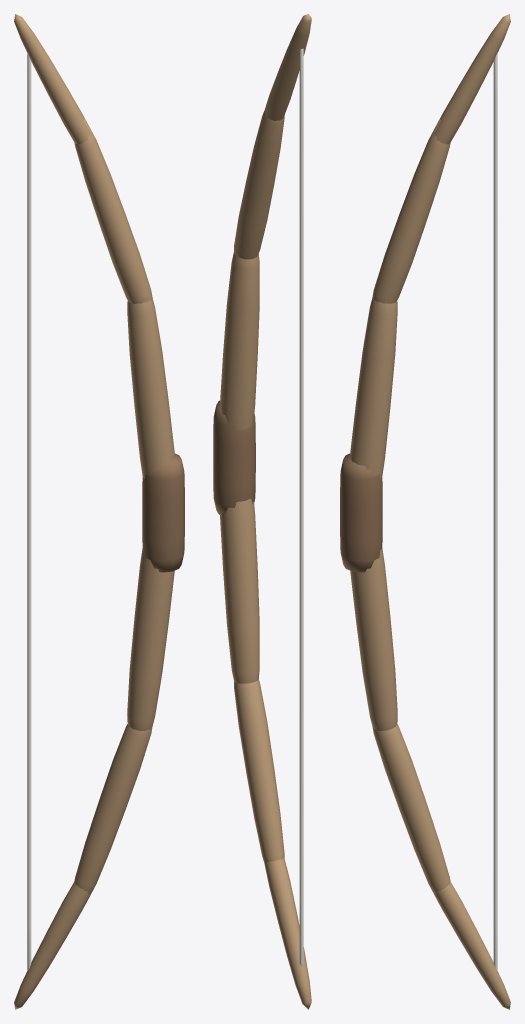
File: bow.glb
The picture shows the model from 3 angles, left to right: view 1: azimuth 90°, elevation 25°; view 2: azimuth 210°, elevation 25°; view 3: azimuth 270°, elevation 25°; orthographic projection.
Visible parts, largest first — view 1: bow; view 2: bow; view 3: bow.
Part boxes in pixels (x1,y1,x2,y2): bow: [14, 14, 184, 1009]; bow: [213, 14, 311, 1009]; bow: [340, 14, 510, 1009].
Bounding box in the file's own units: 0.054 × 1.39 × 0.2163.
